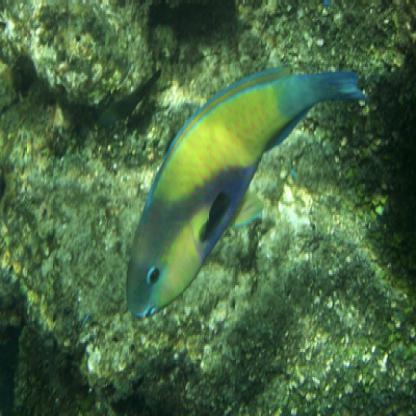Bio: (116, 61, 372, 321)
